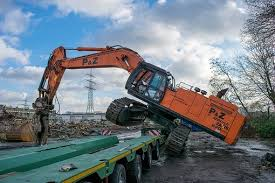excavator: (2, 48, 249, 159)
